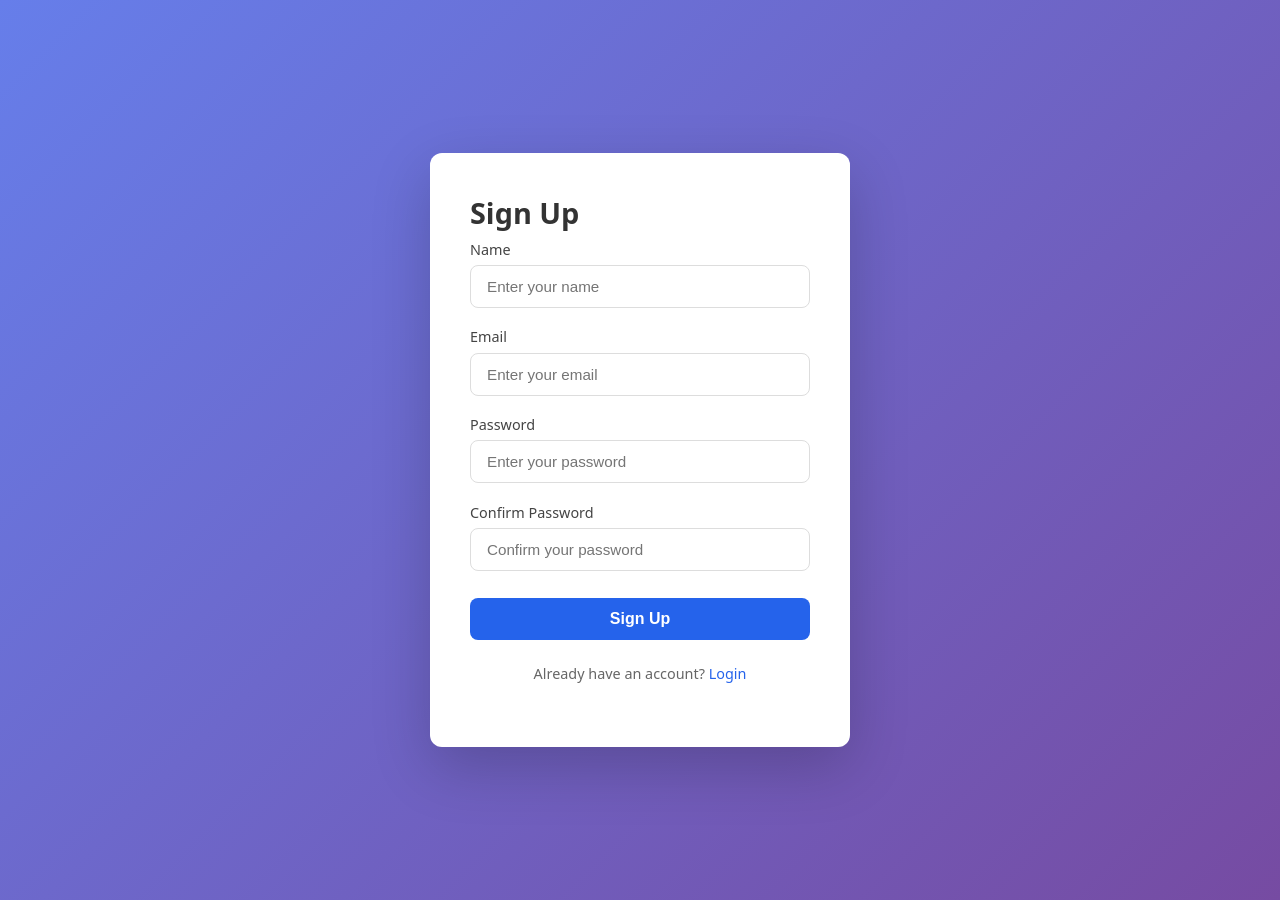
Test case: Signup Page › shows error when fields are empty
Click the button "Sign Up" at (640, 619), box [470,598,810,640]
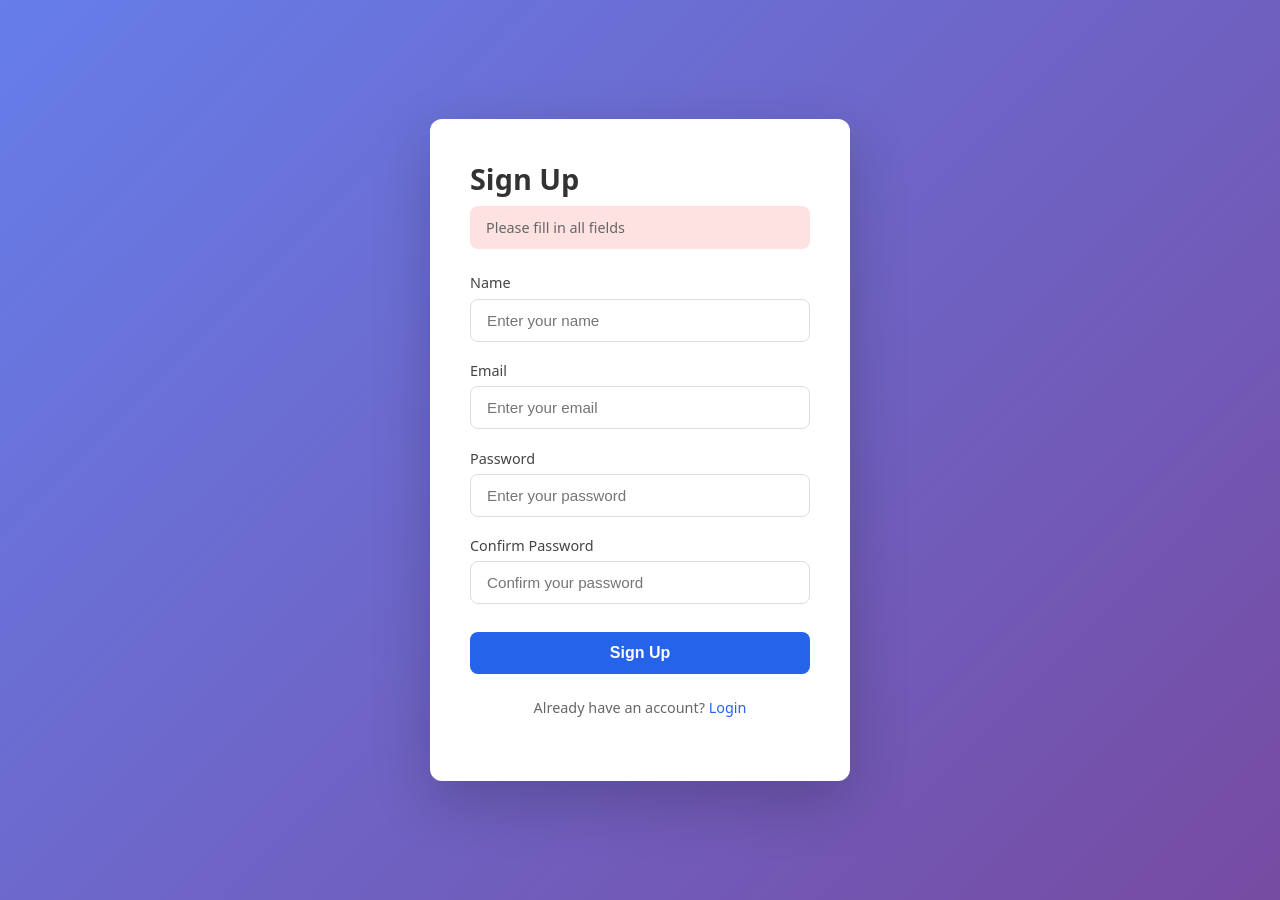
Check: the text "Please fill in all fields" is shown, box [470,206,810,249]
